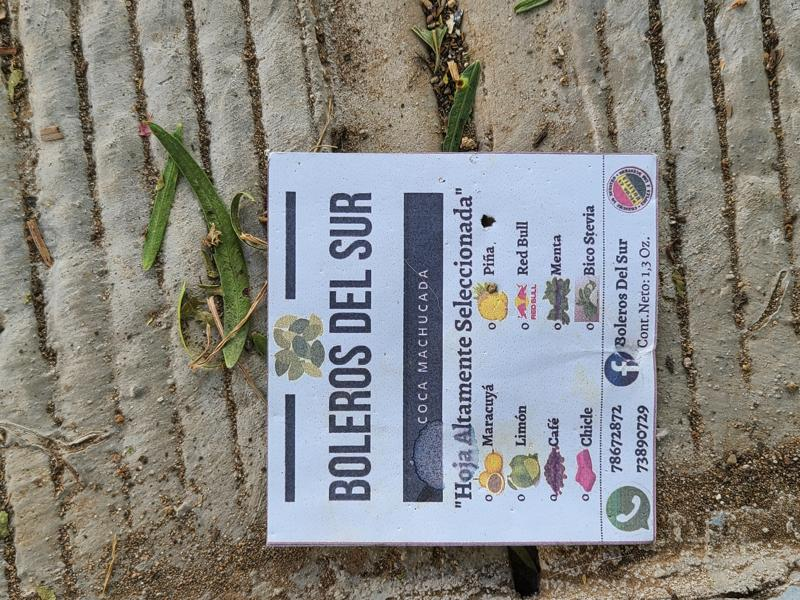papel: (265, 152, 662, 578)
